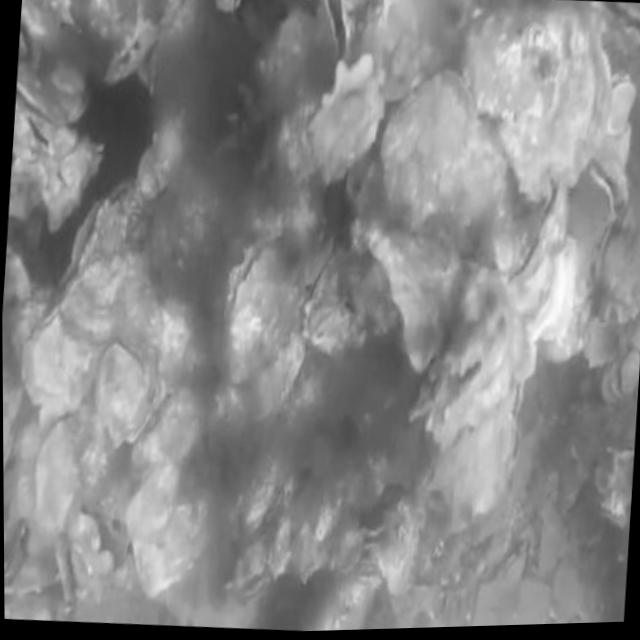Oyster-Closed: (471, 0, 612, 197), (226, 237, 301, 379), (59, 183, 148, 301), (507, 167, 568, 313), (21, 306, 89, 422), (303, 244, 368, 362), (97, 336, 153, 448), (567, 155, 628, 256), (16, 60, 91, 122), (103, 19, 158, 86), (29, 113, 81, 155), (603, 72, 635, 135), (3, 358, 20, 474), (601, 492, 625, 528), (513, 378, 527, 419), (509, 418, 519, 472)
Oyster-Indeterminate: (383, 74, 507, 242), (368, 222, 458, 366), (427, 381, 515, 512), (134, 499, 214, 591), (133, 389, 200, 469), (126, 458, 181, 543), (35, 427, 79, 533), (623, 349, 640, 392)
Oyster-Open: (429, 308, 512, 458), (308, 53, 386, 180), (234, 538, 271, 598), (597, 1, 640, 49), (318, 0, 351, 59), (18, 13, 33, 67)
